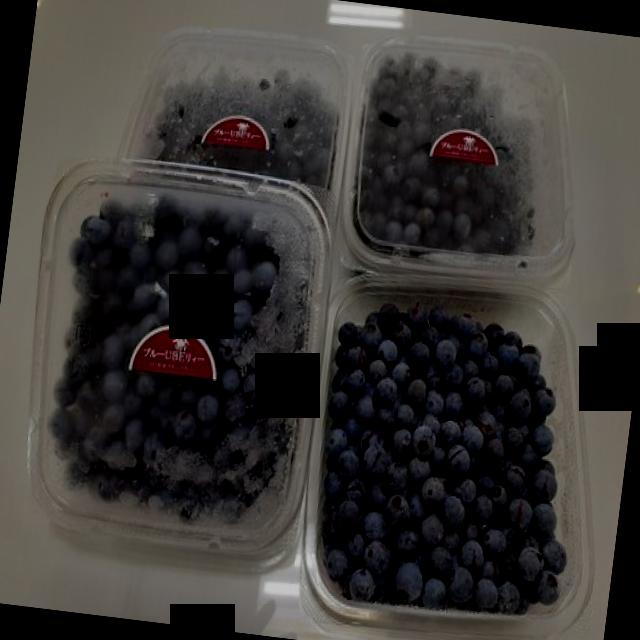blueberry: (26, 160, 330, 565), (317, 286, 584, 618), (342, 37, 578, 284), (122, 26, 352, 203)
